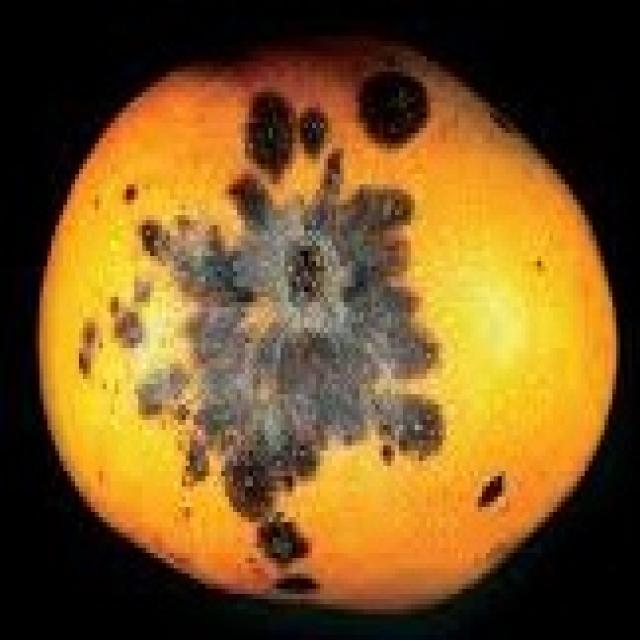Bad_Mango: (41, 47, 615, 607)
